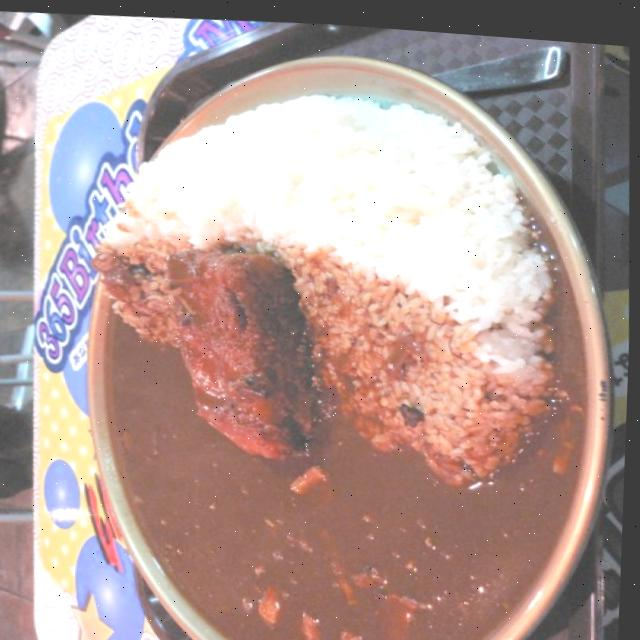猪肉菜式: (28, 79, 570, 640)
